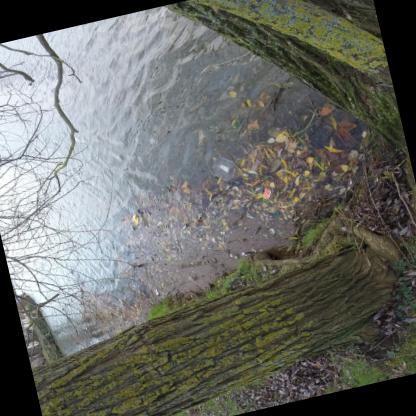Plastic: (211, 156, 235, 181), (275, 211, 279, 215)
Waste: (263, 187, 271, 198), (188, 273, 197, 280), (156, 288, 160, 296)
